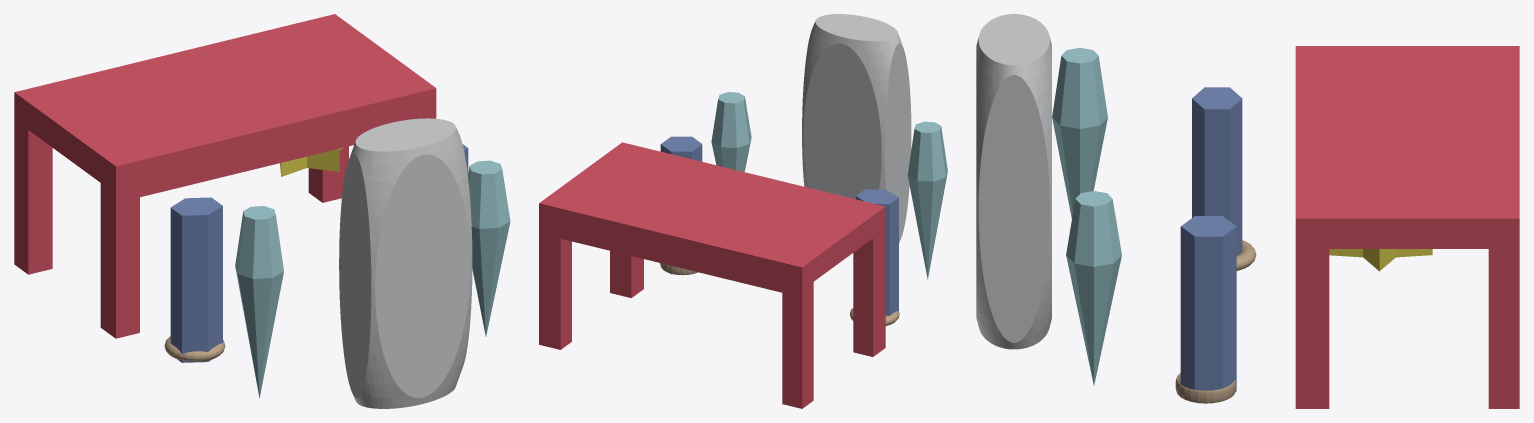
Rendered from Fabulous Luulia.glb.
The picture shows the model from 3 angles, left to right: view 1: azimuth 30°, elevation 25°; view 2: azimuth 150°, elevation 25°; view 3: azimuth 270°, elevation 25°; orthographic projection. The views are drawn at different scales.
Visible parts, largest first — view 1: Mesh_Mesh_head_geo.001_lambert2SG.001; view 2: Mesh_Mesh_head_geo.001_lambert2SG.001; view 3: Mesh_Mesh_head_geo.001_lambert2SG.001.
Boxes of the visible parts, bbox=[...] form: Mesh_Mesh_head_geo.001_lambert2SG.001: bbox=[14, 14, 510, 408]; Mesh_Mesh_head_geo.001_lambert2SG.001: bbox=[539, 14, 947, 408]; Mesh_Mesh_head_geo.001_lambert2SG.001: bbox=[976, 14, 1519, 408].
Bounding box in the file's own units: 146 × 112 × 194.
